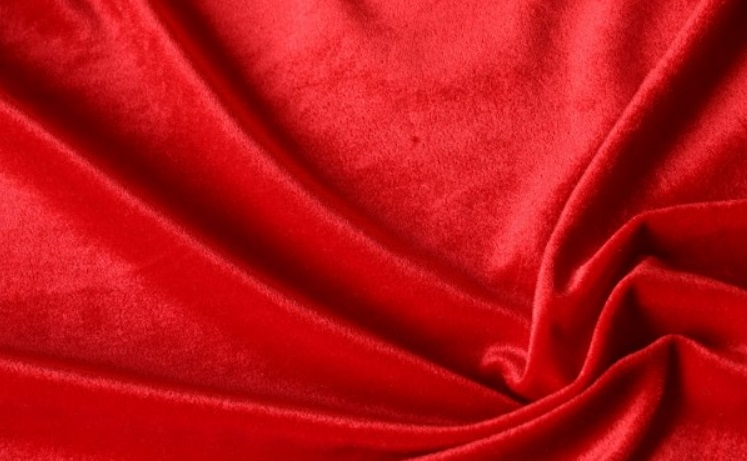Red: (6, 3, 733, 454)
